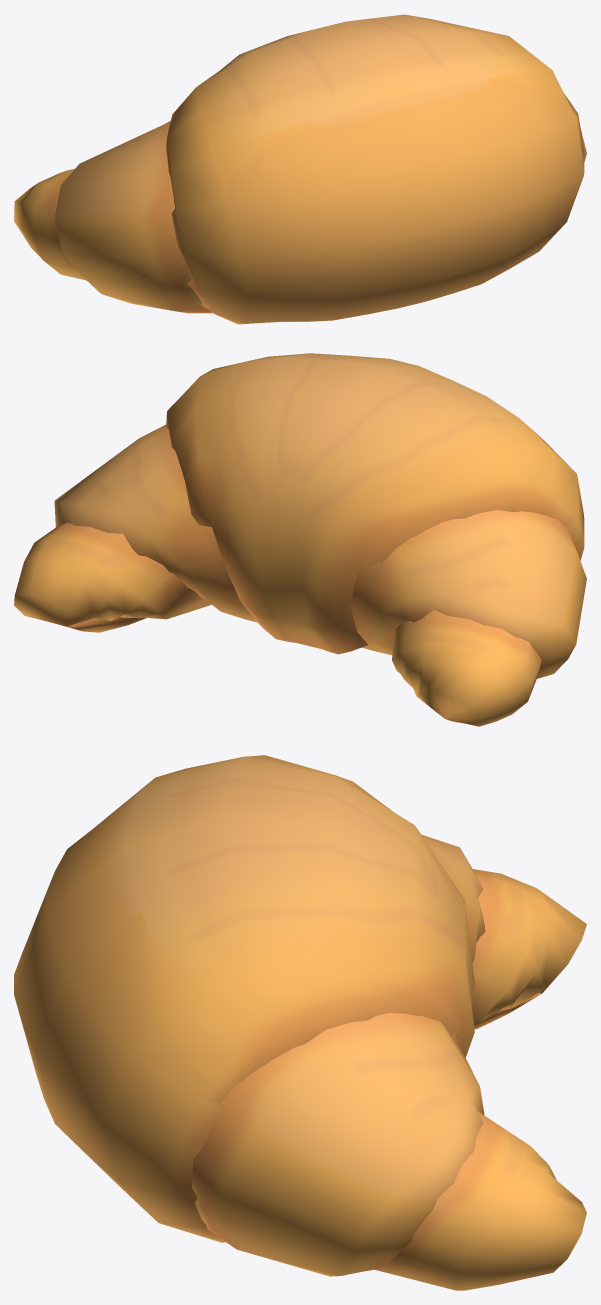
File: Croissant.fbx
3 views of the same model, one above another, from view 1: azimuth 30°, elevation 25°; view 2: azimuth 150°, elevation 25°; view 3: azimuth 270°, elevation 25° (orthographic). The views are drawn at different scales.
Visible parts, largest first — view 1: Crossiant; view 2: Crossiant; view 3: Crossiant.
Part boxes in pixels (box(x1,y1,x2,y2)): Crossiant: box(14, 14, 586, 324); Crossiant: box(14, 353, 586, 726); Crossiant: box(14, 755, 586, 1290).
Size of the model in its own units: 15.82 by 7.49 by 10.88.
